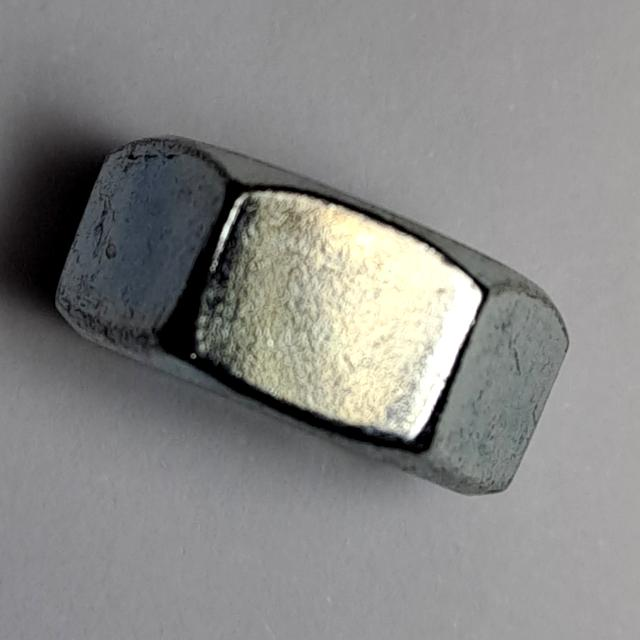Side_Excellent: (45, 117, 582, 508)
